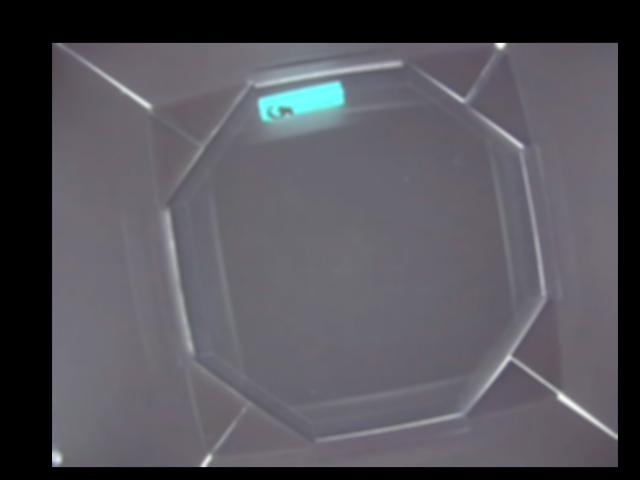Battery: (257, 80, 343, 119)
